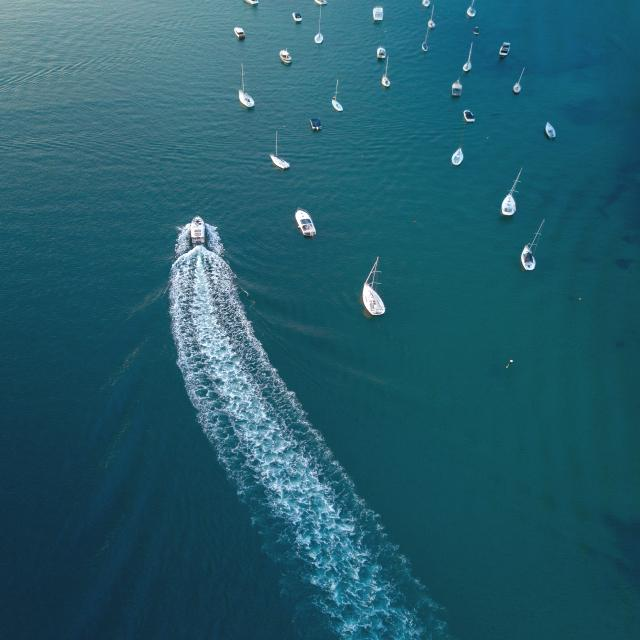ship: (355, 258, 396, 319), (499, 169, 529, 216), (186, 213, 216, 248), (297, 201, 323, 240), (256, 148, 296, 173), (230, 82, 261, 110), (524, 223, 542, 270), (450, 140, 470, 168), (443, 76, 466, 100), (276, 43, 297, 68), (372, 43, 399, 62), (540, 120, 560, 144), (306, 114, 328, 134), (372, 4, 392, 23), (462, 47, 476, 73), (511, 68, 526, 92), (427, 7, 442, 30), (380, 69, 398, 88), (466, 0, 481, 20), (418, 34, 431, 55), (461, 108, 478, 124), (310, 31, 326, 47), (499, 41, 514, 58), (291, 10, 305, 26), (233, 26, 246, 42), (241, 0, 262, 6), (311, 0, 328, 4)
